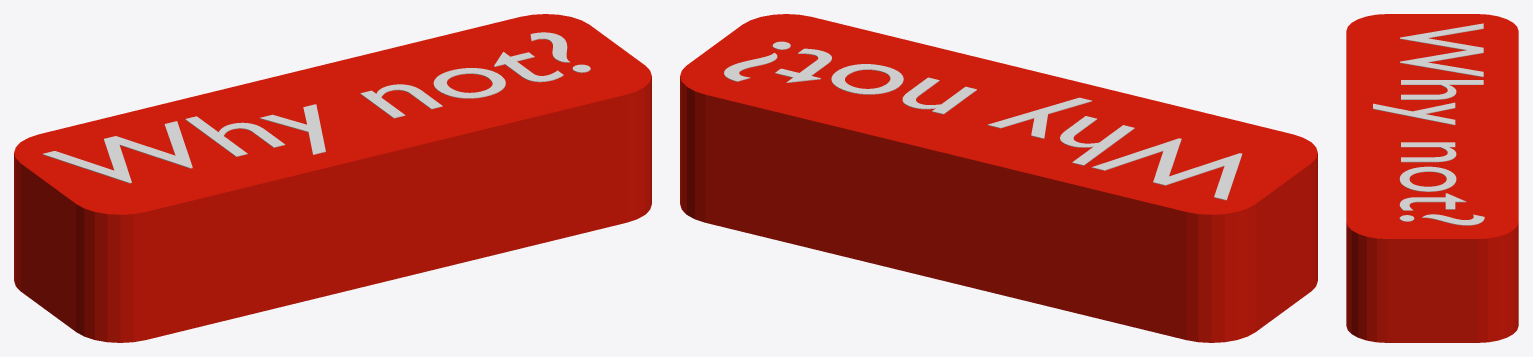
The model's file is whynot.fbx.
3 renders of one model, left to right at view 1: azimuth 30°, elevation 25°; view 2: azimuth 150°, elevation 25°; view 3: azimuth 270°, elevation 25°, orthographic. The views are drawn at different scales.
Parts seen in each view (by area): view 1: Cube.023; view 2: Cube.023; view 3: Cube.023.
Boxes of the visible parts, x1=… form: Cube.023: x1=14, y1=14, x2=651, y2=342; Cube.023: x1=680, y1=14, x2=1317, y2=342; Cube.023: x1=1346, y1=14, x2=1518, y2=342.
Size of the model in its own units: 137 by 29.73 by 44.47.
